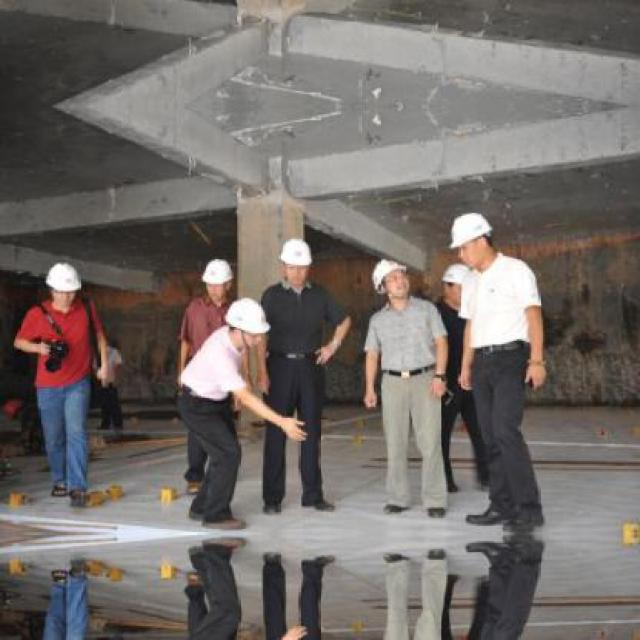helmet: (441, 205, 494, 256), (224, 299, 276, 338), (360, 253, 405, 291), (43, 260, 83, 294), (197, 259, 237, 292), (281, 236, 317, 267)
